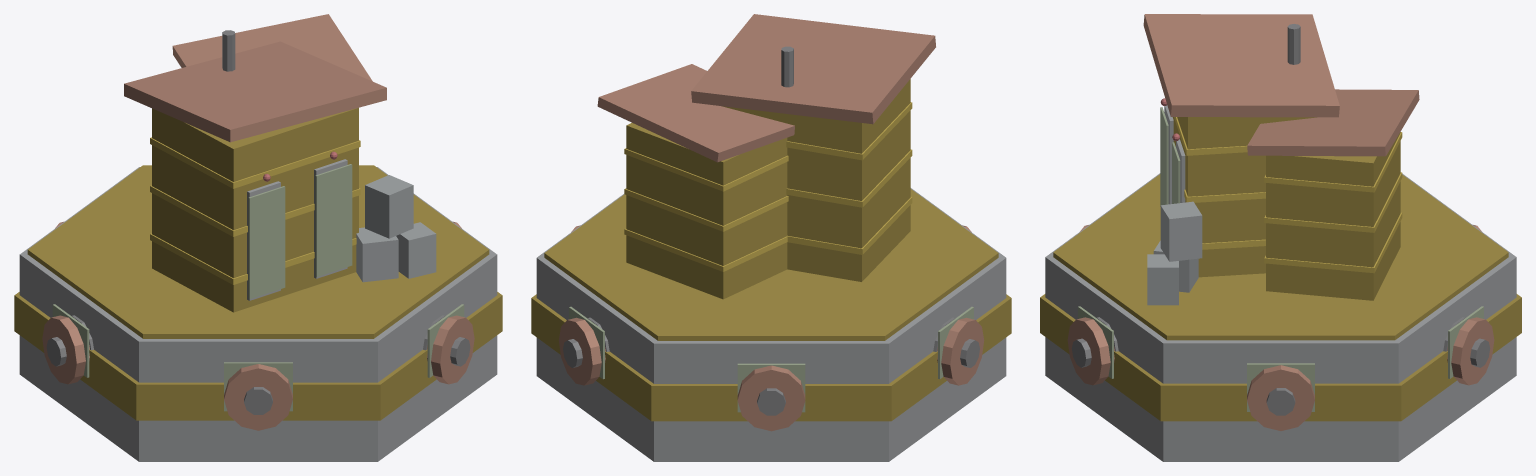
File: black_market_s2_100.glb
3 renders of one model, left to right at view 1: azimuth 30°, elevation 25°; view 2: azimuth 150°, elevation 25°; view 3: azimuth 270°, elevation 25°, orthographic.
Parts seen in each view (by area): view 1: BM_Base, BM_Base_Top, BM_Shed1_Walls, BM_Shed1_Roof, BM_Base_Plank, BM_Shed2_Roof, BM_Shed1_Curtain_0, BM_Shed1_Curtain_1, BM_Flange_4_disc, BM_Crate_2, BM_Crate_0, BM_Flange_3_disc (+12 smaller); view 2: BM_Base, BM_Base_Top, BM_Shed2_Walls, BM_Shed1_Roof, BM_Shed1_Walls, BM_Base_Plank, BM_Shed2_Roof, BM_Flange_2_disc, BM_Flange_1_disc, BM_Flange_3_disc, BM_Shed2_Plank_1, BM_Shed2_Plank_2 (+9 smaller); view 3: BM_Base, BM_Base_Top, BM_Shed1_Roof, BM_Shed2_Walls, BM_Base_Plank, BM_Shed1_Walls, BM_Shed2_Roof, BM_Flange_0_disc, BM_Crate_2, BM_Flange_1_disc, BM_Flange_5_disc, BM_Crate_1 (+13 smaller).
Boxes of the visible parts, bbox=[...] form: BM_Base: bbox=[19, 167, 497, 461]; BM_Base_Top: bbox=[27, 165, 489, 338]; BM_Shed1_Walls: bbox=[152, 107, 358, 312]; BM_Shed1_Roof: bbox=[124, 41, 386, 142]; BM_Base_Plank: bbox=[14, 292, 502, 420]; BM_Shed2_Roof: bbox=[172, 14, 372, 81]; BM_Shed1_Curtain_0: bbox=[248, 186, 285, 299]; BM_Shed1_Curtain_1: bbox=[315, 164, 352, 277]; BM_Flange_4_disc: bbox=[224, 364, 292, 430]; BM_Crate_2: bbox=[365, 175, 413, 238]; BM_Crate_0: bbox=[356, 227, 398, 282]; BM_Flange_3_disc: bbox=[42, 315, 85, 384]; BM_Base: bbox=[536, 188, 1006, 461]; BM_Base_Top: bbox=[544, 189, 998, 340]; BM_Shed2_Walls: bbox=[626, 123, 787, 299]; BM_Shed1_Roof: bbox=[691, 14, 935, 124]; BM_Shed1_Walls: bbox=[722, 79, 910, 281]; BM_Base_Plank: bbox=[531, 294, 1011, 421]; BM_Shed2_Roof: bbox=[597, 64, 794, 162]; BM_Flange_2_disc: bbox=[737, 365, 805, 431]; BM_Flange_1_disc: bbox=[558, 317, 601, 385]; BM_Flange_3_disc: bbox=[941, 317, 984, 385]; BM_Shed2_Plank_1: bbox=[624, 188, 788, 231]; BM_Shed2_Plank_2: bbox=[624, 148, 788, 191]; BM_Base: bbox=[1045, 173, 1516, 461]; BM_Base_Top: bbox=[1053, 174, 1508, 340]; BM_Shed1_Roof: bbox=[1143, 14, 1339, 117]; BM_Shed2_Walls: bbox=[1266, 132, 1400, 300]; BM_Base_Plank: bbox=[1040, 294, 1521, 421]; BM_Shed1_Walls: bbox=[1172, 117, 1316, 277]; BM_Shed2_Roof: bbox=[1247, 89, 1419, 156]; BM_Flange_0_disc: bbox=[1247, 365, 1314, 430]; BM_Crate_2: bbox=[1160, 201, 1202, 261]; BM_Flange_1_disc: bbox=[1451, 317, 1494, 385]; BM_Flange_5_disc: bbox=[1067, 317, 1110, 385]; BM_Crate_1: bbox=[1147, 254, 1178, 305].
Bounding box in the file's own units: 1.78 × 1.43 × 1.84.
